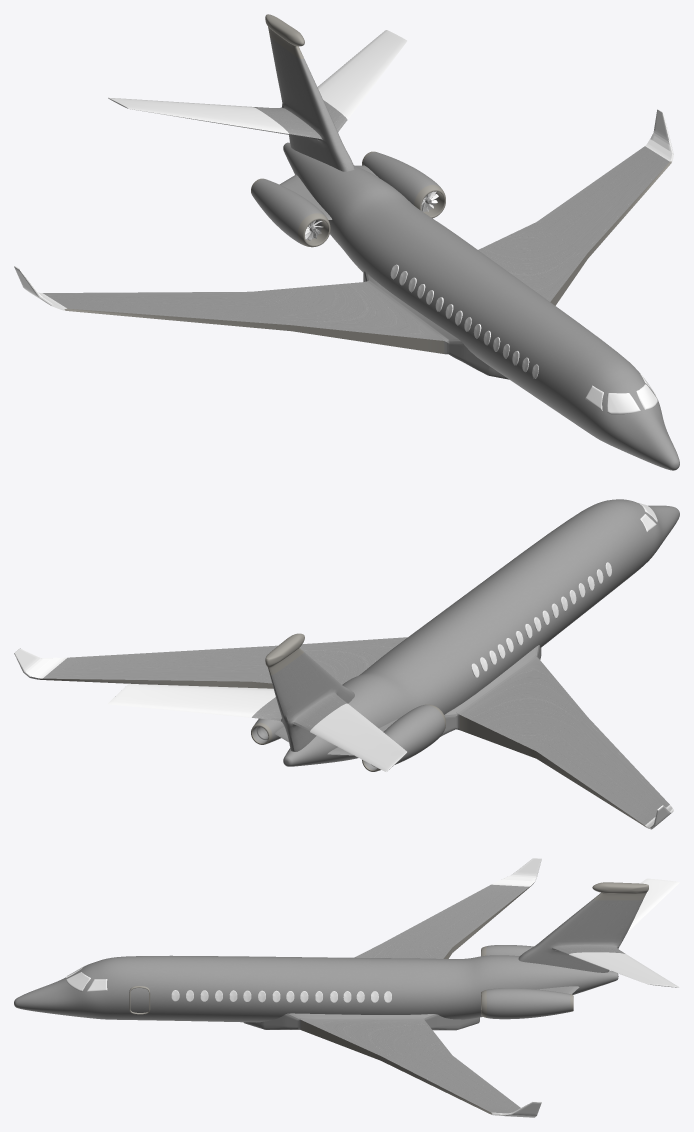
File: Falcon 6X.glb
3 views of the same model, one above another, from view 1: azimuth 30°, elevation 25°; view 2: azimuth 150°, elevation 25°; view 3: azimuth 270°, elevation 25° (orthographic). The views are drawn at different scales.
Visible parts, largest first — view 1: Main Body, Wings, Back Tail, Engines, Windows; view 2: Main Body, Wings, Back Tail, Engines, Windows; view 3: Main Body, Wings, Back Tail, Engines, Windows.
Part boxes in pixels (x1=…): Main Body: x1=283, y1=142, x2=679, y2=470; Wings: x1=14, y1=109, x2=673, y2=379; Back Tail: x1=108, y1=14, x2=406, y2=171; Engines: x1=251, y1=151, x2=445, y2=247; Windows: x1=390, y1=264, x2=538, y2=378; Main Body: x1=283, y1=499, x2=679, y2=766; Wings: x1=14, y1=637, x2=673, y2=829; Back Tail: x1=108, y1=633, x2=407, y2=771; Engines: x1=251, y1=704, x2=445, y2=771; Windows: x1=471, y1=562, x2=611, y2=677; Main Body: x1=14, y1=955, x2=618, y2=1022; Wings: x1=243, y1=858, x2=541, y2=1117; Back Tail: x1=518, y1=878, x2=679, y2=987; Engines: x1=481, y1=945, x2=579, y2=1019; Windows: x1=171, y1=990, x2=391, y2=1002.
Size of the model in its own units: 21.66 by 5.75 by 25.02.
Materials: 6 (4 with a texture image).
